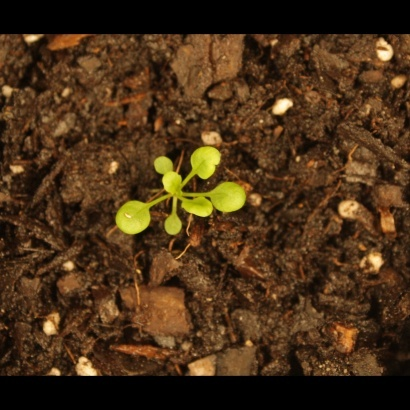leaf: (108, 196, 157, 239), (180, 141, 228, 181), (210, 177, 255, 217), (181, 193, 218, 229), (162, 207, 189, 242), (160, 169, 191, 198), (148, 152, 180, 177)
